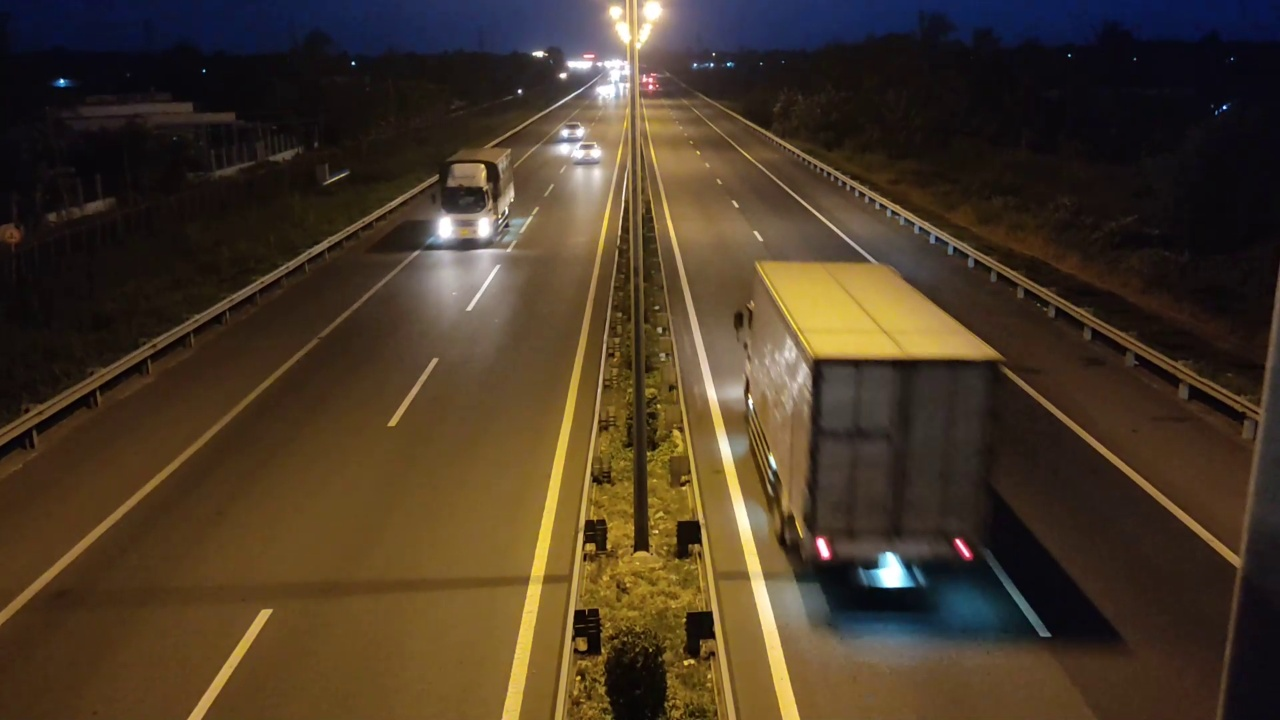car: (570, 142, 603, 165)
truck: (733, 257, 1005, 605), (428, 142, 519, 248)
